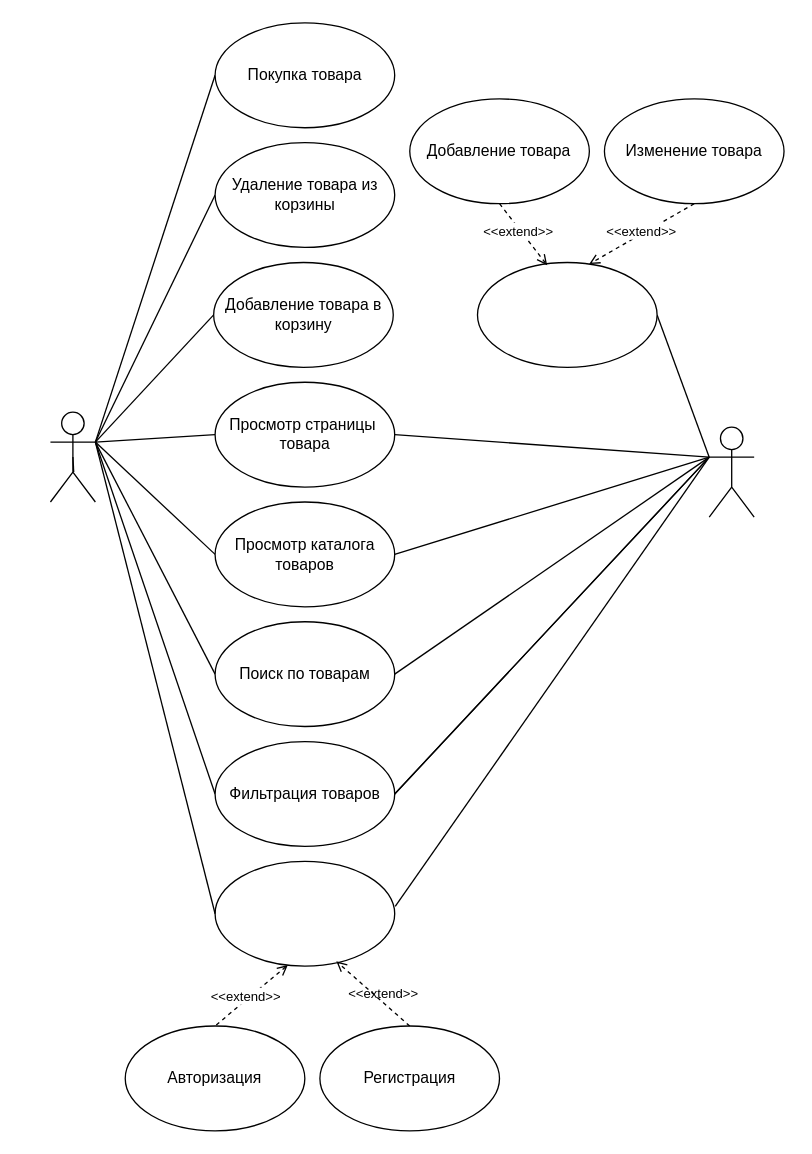
Some shapes in this 812 by 1154 pixel diagram are drawn without their labels. Each missing label, with the centre of its shape:
Администратор: the point at 731,471
Аутентификация: the point at 304,913
Пользователь: the point at 72,456
Управление товарами: the point at 566,314
